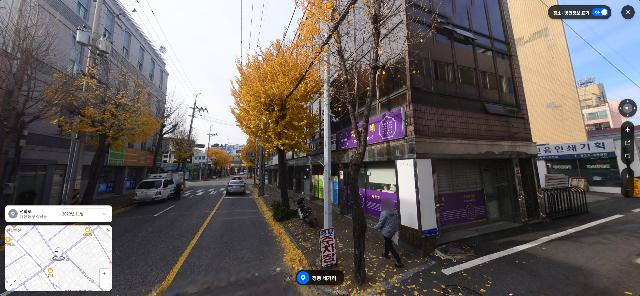ginkgo: (284, 0, 442, 286), (36, 54, 157, 206), (227, 35, 319, 215), (241, 139, 268, 183), (170, 132, 195, 172), (204, 152, 220, 180)
other: (1, 0, 86, 206), (143, 82, 190, 175)
